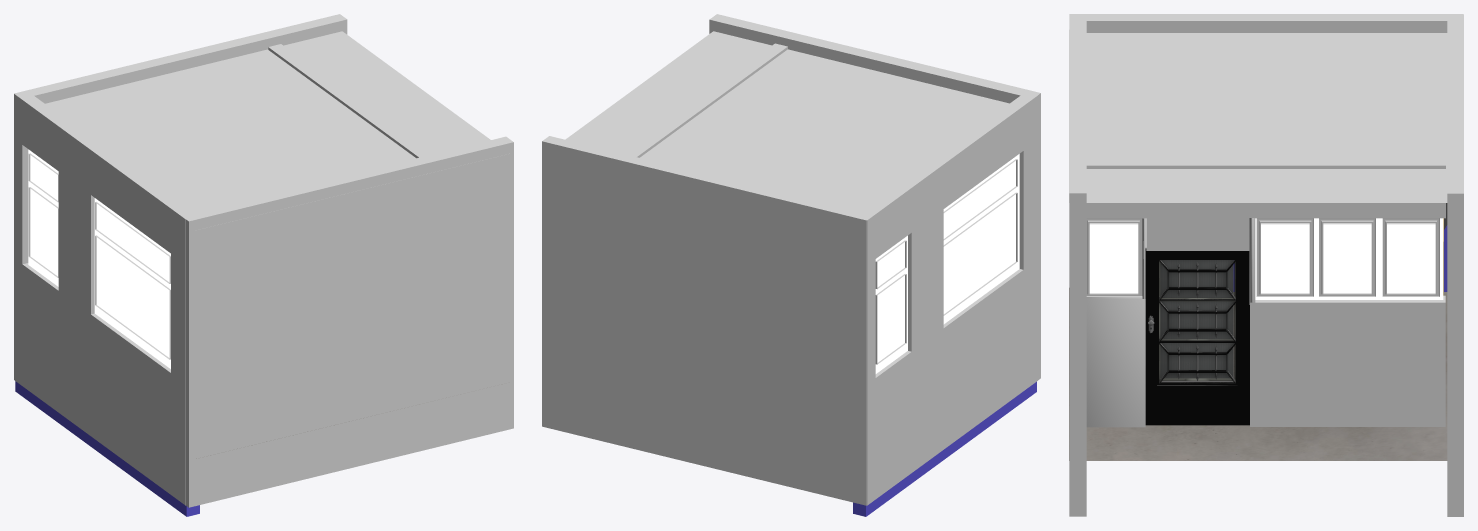
The picture shows the model from 3 angles, left to right: view 1: azimuth 30°, elevation 25°; view 2: azimuth 150°, elevation 25°; view 3: azimuth 270°, elevation 25°; orthographic projection. The views are drawn at different scales.
Parts seen in each view (by area): view 1: Cube.007, Plane.009, Cube.003, Plane.005, Cube.002, Cube.011, Cube.001, window.001, window; view 2: Cube.002, Plane.009, Cube.003, Plane.005, Cube.007, Cube.011, Cube.001, window.001, window; view 3: Plane.009, Cube.004, Plane, Plane.006, porta_Cube.001, Cube.011, Cube.007, Cube.002, Cube.005, Cube.003, vidro_Cube.000, Plane.007 (+9 smaller).
Part boxes in pixels (x1,y1,x2,y2): Cube.007: (181, 136, 513, 507); Plane.009: (45, 31, 509, 224); Cube.003: (14, 90, 197, 505); Plane.005: (28, 149, 170, 368); Cube.002: (14, 14, 347, 103); Cube.011: (268, 44, 431, 158); Cube.001: (15, 381, 199, 516); window.001: (95, 202, 170, 359); window: (28, 153, 58, 277); Cube.002: (542, 136, 873, 505); Plane.009: (565, 31, 1009, 211); Cube.003: (856, 92, 1038, 505); Plane.005: (875, 154, 1019, 373); Cube.007: (709, 14, 1040, 379); Cube.011: (624, 43, 787, 157); Cube.001: (853, 381, 1036, 516); window.001: (943, 159, 1017, 315); window: (875, 240, 906, 364); Plane.009: (1069, 30, 1447, 202); Cube.004: (1250, 295, 1445, 426); Plane: (1069, 288, 1447, 460); Plane.006: (1255, 218, 1443, 299); porta_Cube.001: (1145, 247, 1249, 425); Cube.011: (1086, 158, 1445, 218); Cube.007: (1069, 14, 1086, 516); Cube.002: (1447, 14, 1463, 516); Cube.005: (1086, 297, 1145, 427); Cube.003: (1076, 14, 1463, 32); vidro_Cube.000: (1160, 260, 1233, 378); Plane.007: (1089, 218, 1146, 293).
Bounding box in the file's own units: 5.83 × 5.09 × 5.42.
29 materials, 3 textured.
